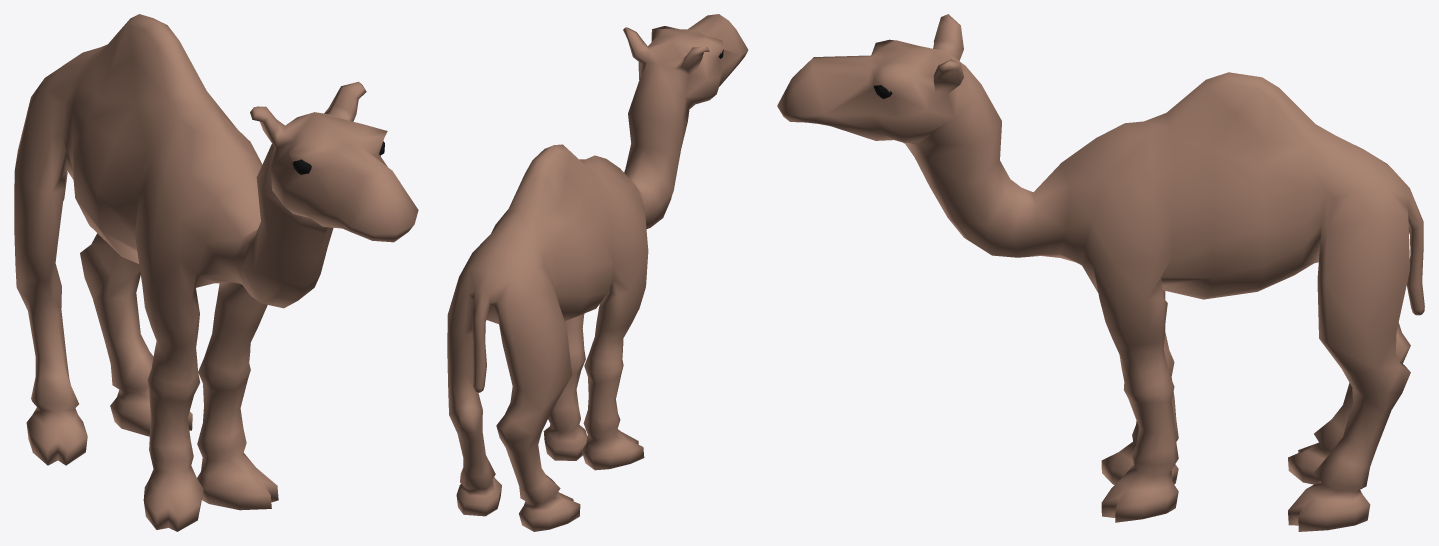
The picture shows the model from 3 angles, left to right: view 1: azimuth 30°, elevation 25°; view 2: azimuth 150°, elevation 25°; view 3: azimuth 270°, elevation 25°; orthographic projection. The views are drawn at different scales.
Visible parts, largest first — view 1: camel; view 2: camel; view 3: camel.
Part boxes in pixels (box(x1,y1,x2,y2)): camel: box(14, 14, 418, 531); camel: box(447, 14, 748, 531); camel: box(777, 14, 1424, 531).
Bounding box in the file's own units: 0.2121 × 0.6416 × 0.815.
